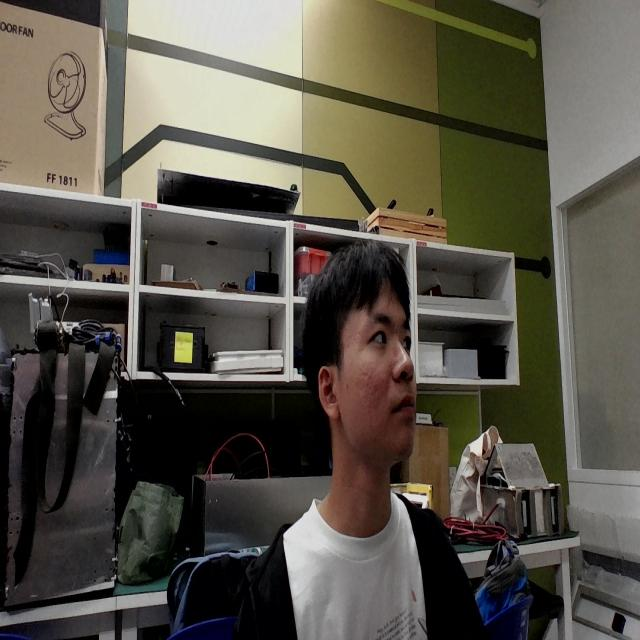Without Helmet: (291, 221, 444, 524)
